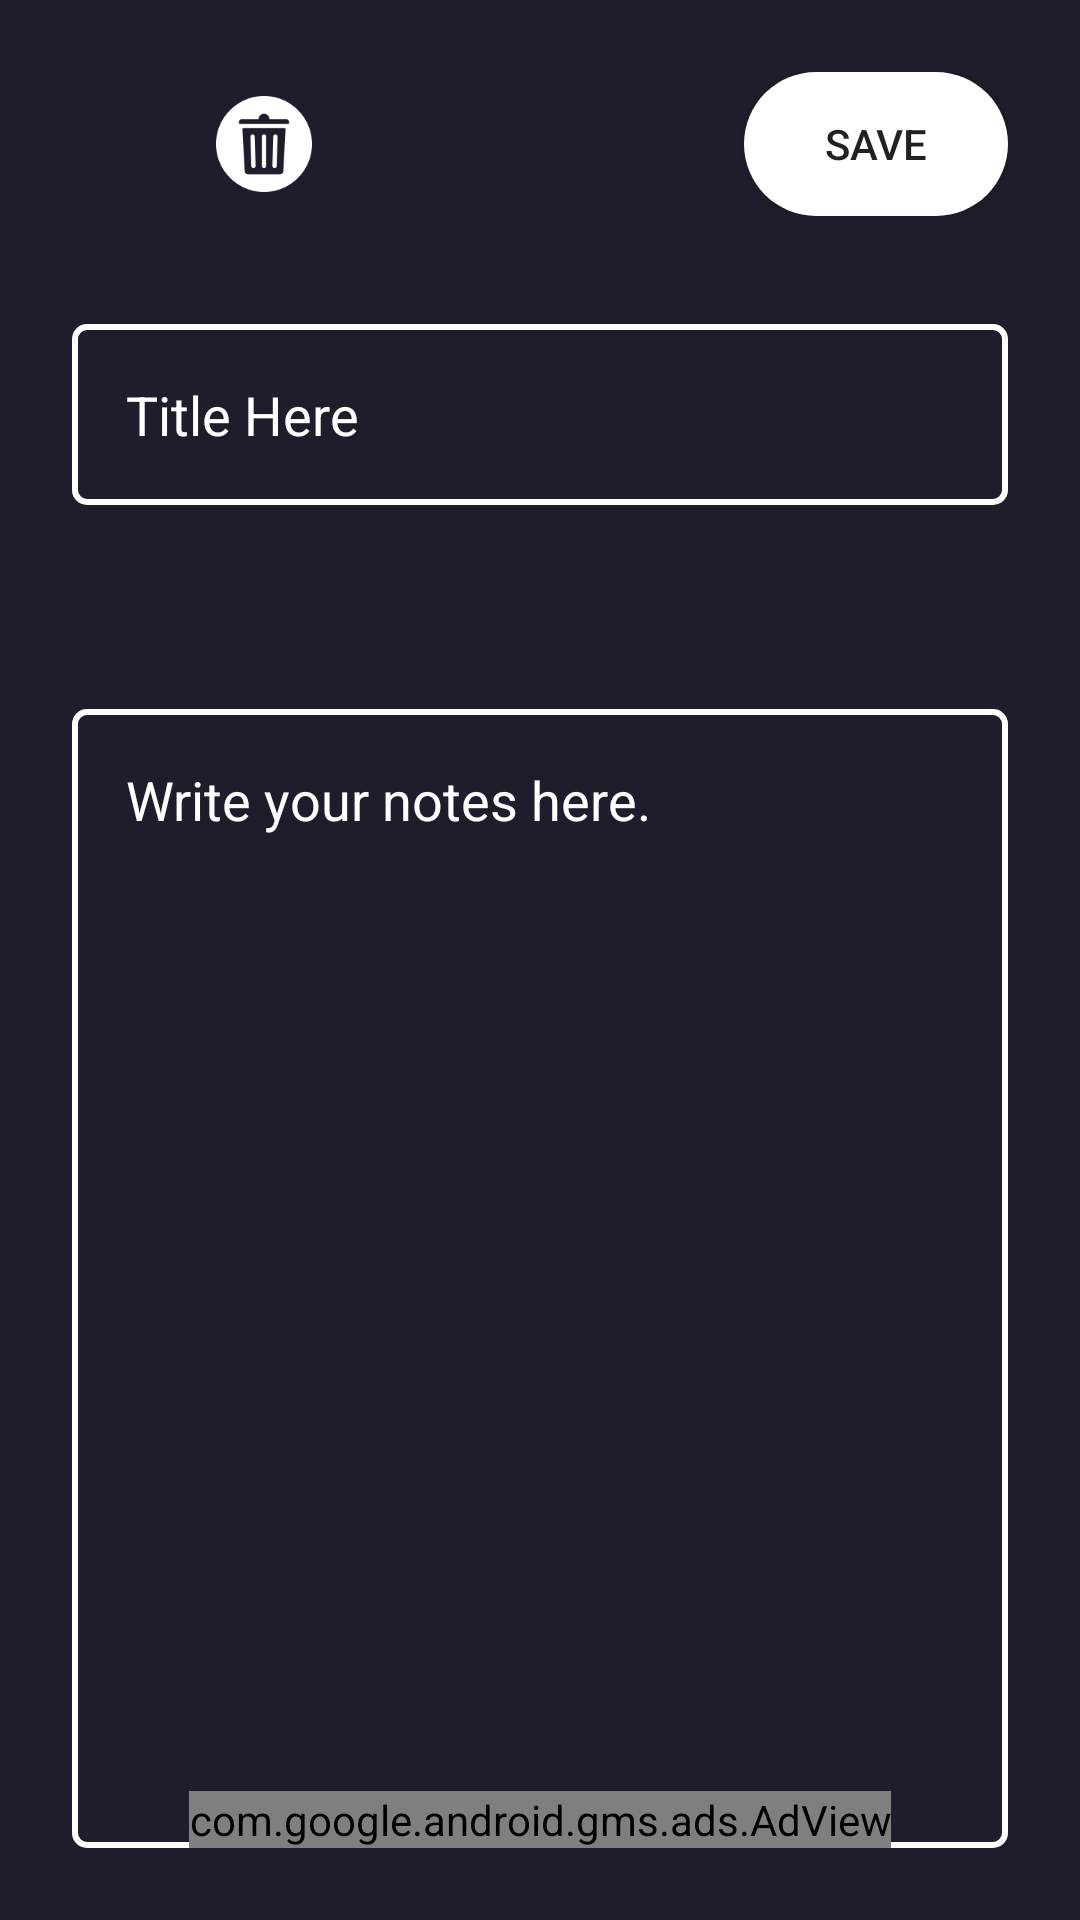

Named icons in this screenshot (1080x1920) and their centers, (x=x, y=y):
delete: (x=264, y=144)
